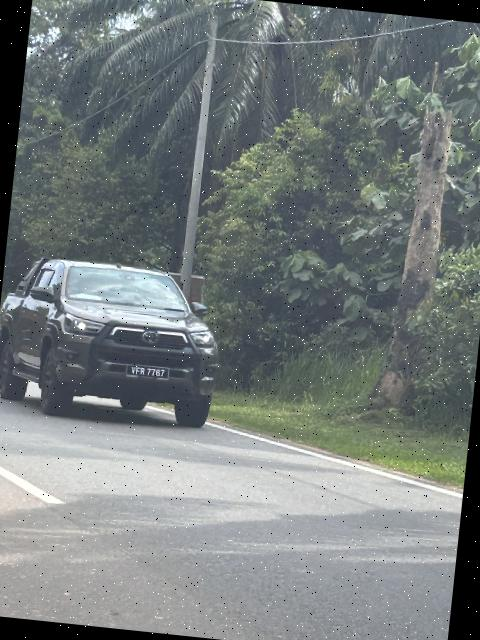License_Plate: (127, 366, 171, 382)
car: (1, 245, 232, 442)
